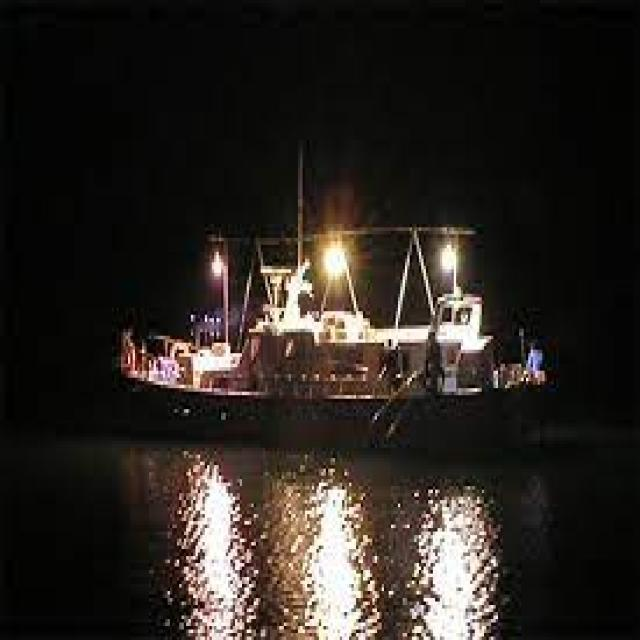Ship: (106, 131, 558, 463)
